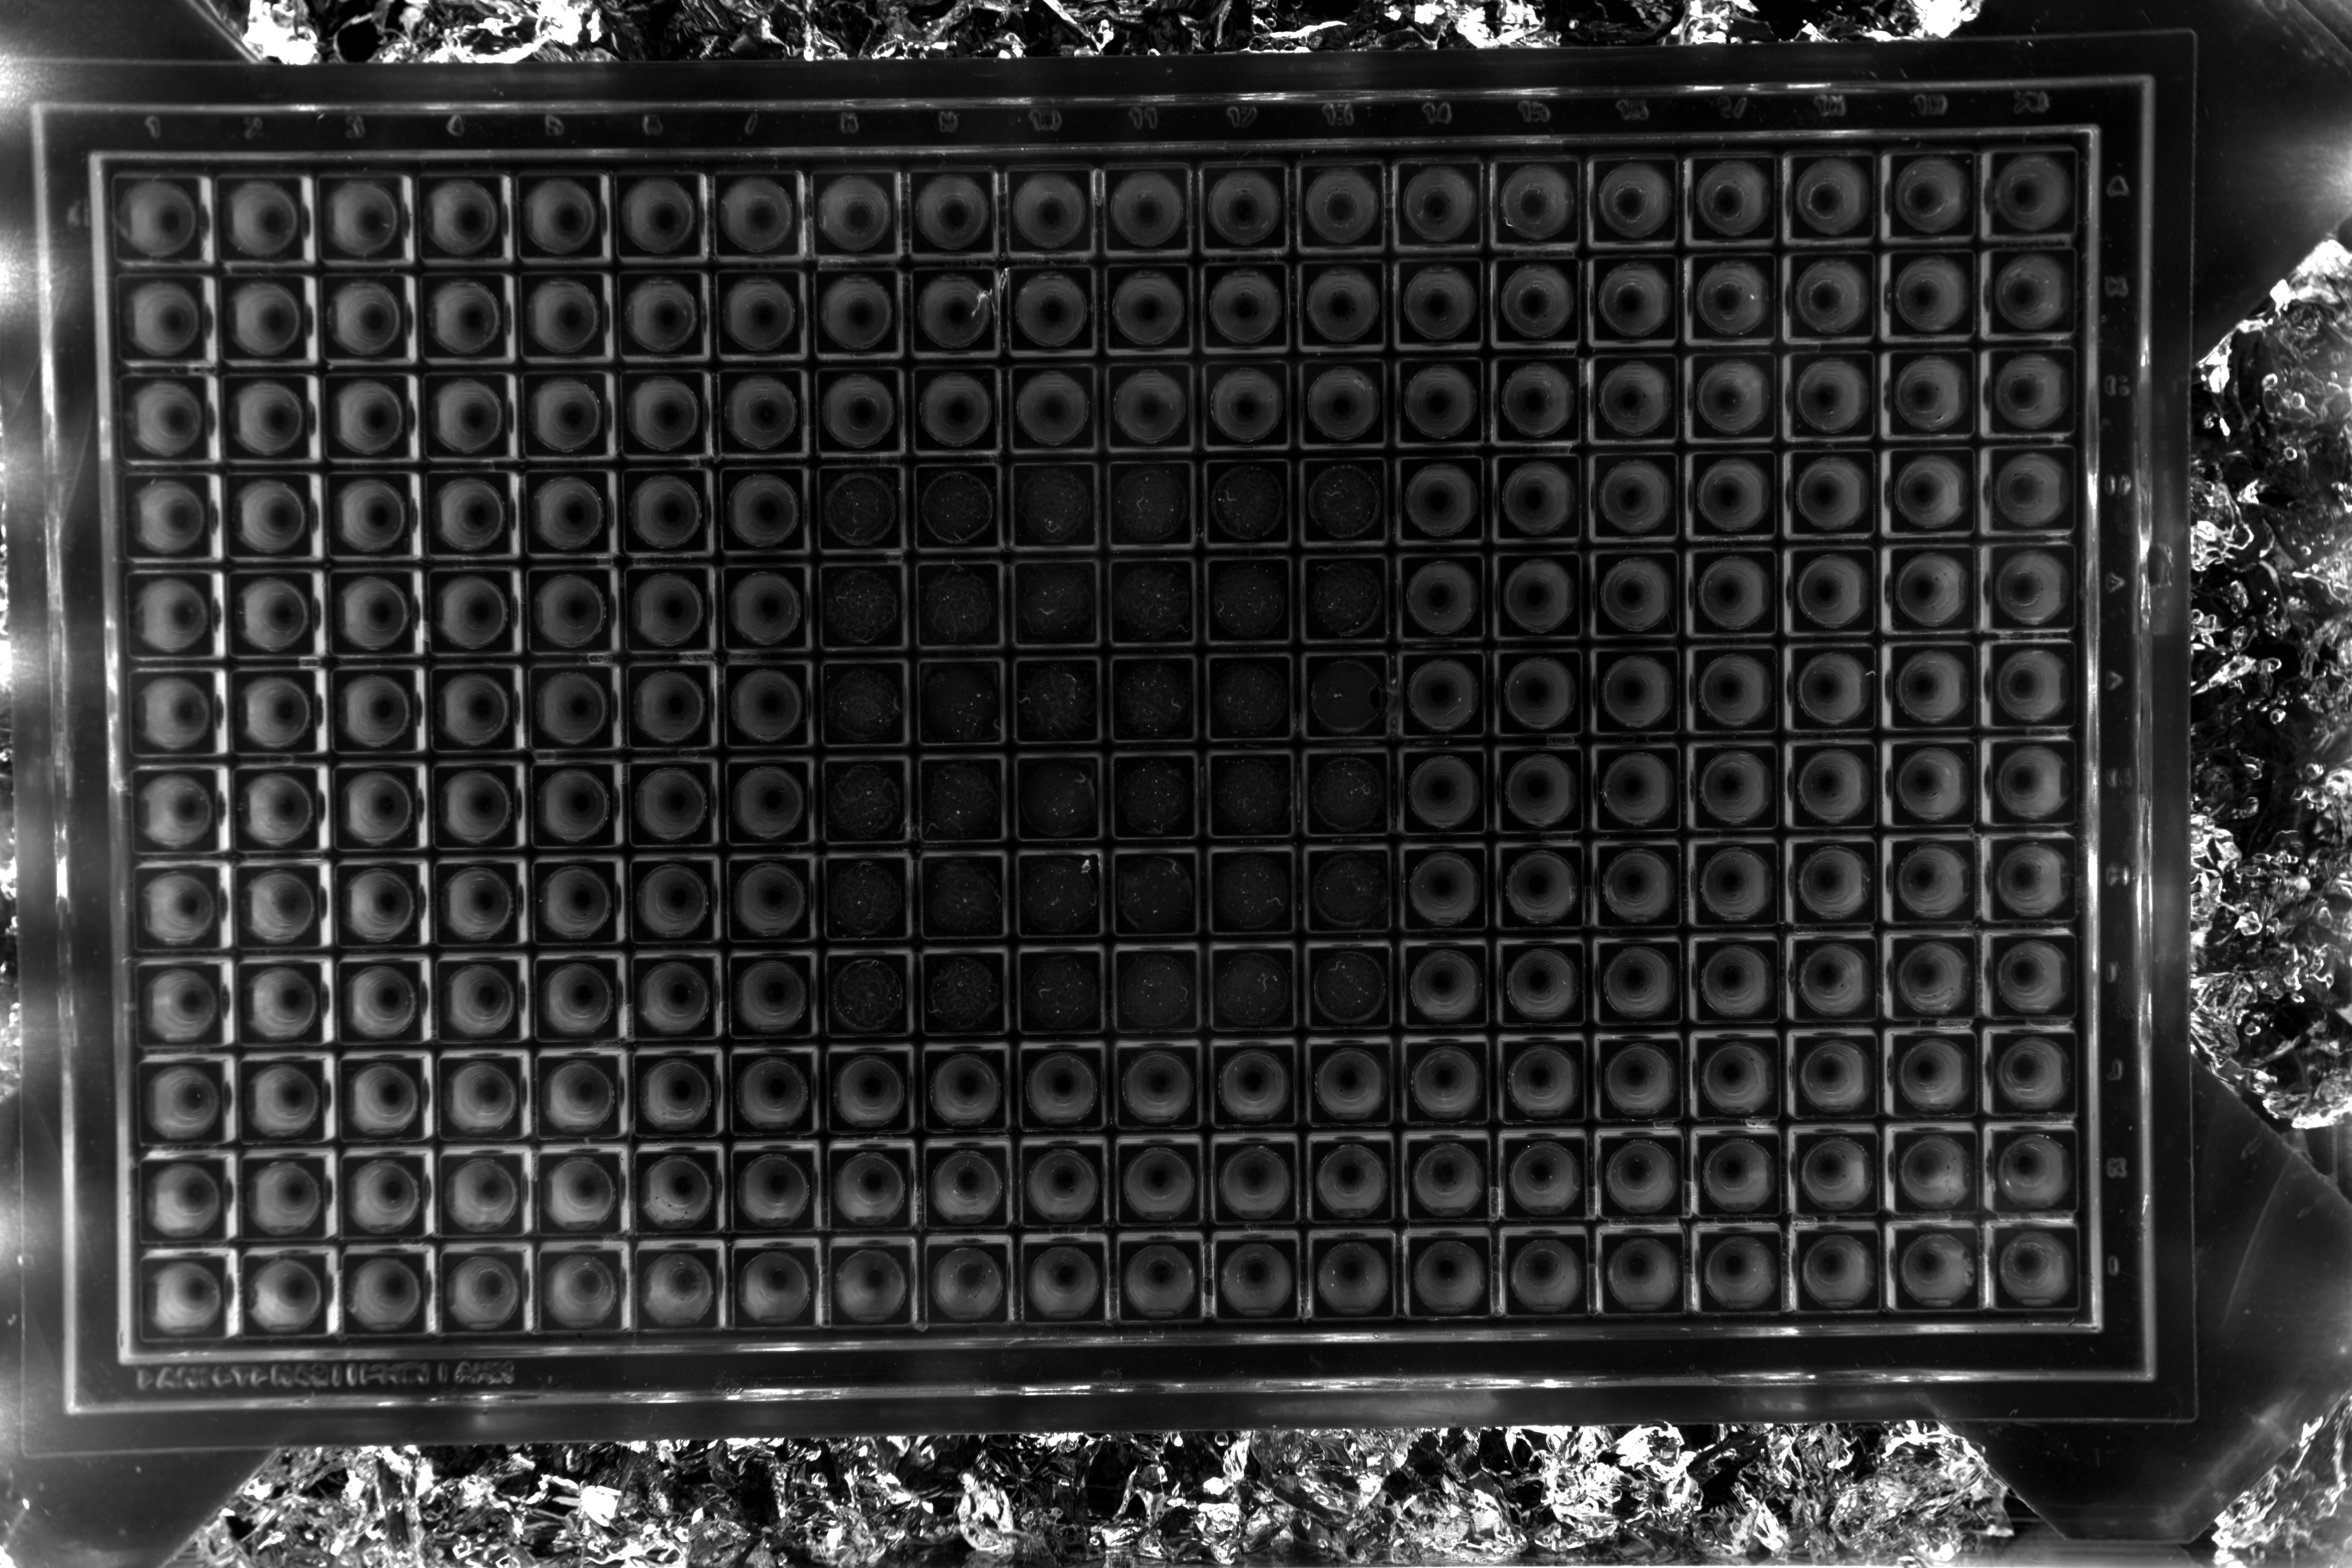WM_well: (397, 633, 486, 721), (982, 534, 1071, 621), (1272, 1209, 1360, 1298), (1862, 429, 1951, 516), (401, 1216, 488, 1304), (588, 240, 675, 327), (595, 1214, 682, 1302), (693, 922, 780, 1010), (887, 1018, 975, 1106), (980, 241, 1067, 329), (1078, 142, 1165, 229), (1078, 241, 1165, 329), (1274, 240, 1361, 327), (1466, 630, 1554, 717), (1468, 434, 1556, 521), (1661, 920, 1748, 1008), (1664, 432, 1752, 520), (1666, 233, 1753, 320), (1857, 1213, 1944, 1300), (1858, 822, 1946, 910), (1962, 427, 2049, 514), (2056, 1017, 2144, 1104), (2060, 625, 2147, 712)
